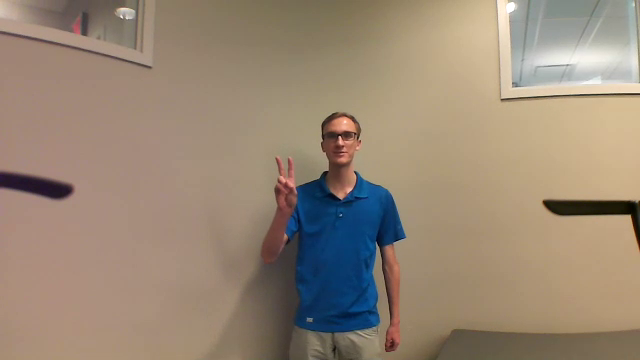peace: (268, 152, 302, 216)
